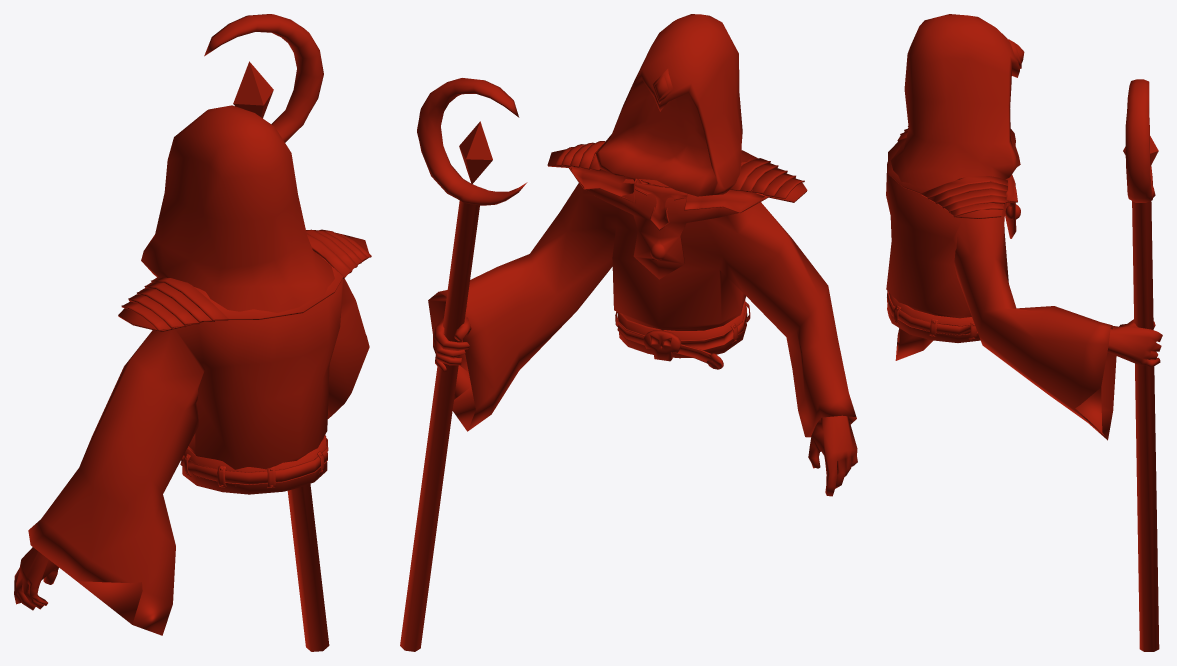
The model's file is top_000029.obj.
The picture shows the model from 3 angles, left to right: view 1: azimuth 30°, elevation 25°; view 2: azimuth 150°, elevation 25°; view 3: azimuth 270°, elevation 25°; orthographic projection. The views are drawn at different scales.
Parts seen in each view (by area): view 1: LowPoly_Warlock.000_Plane.005; view 2: LowPoly_Warlock.000_Plane.005; view 3: LowPoly_Warlock.000_Plane.005.
Part boxes in pixels (<box>): LowPoly_Warlock.000_Plane.005: <box>14,14,371,651</box>; LowPoly_Warlock.000_Plane.005: <box>400,14,857,651</box>; LowPoly_Warlock.000_Plane.005: <box>886,14,1162,651</box>.
Size of the model in its own units: 1.23 by 1.95 by 0.8833.
